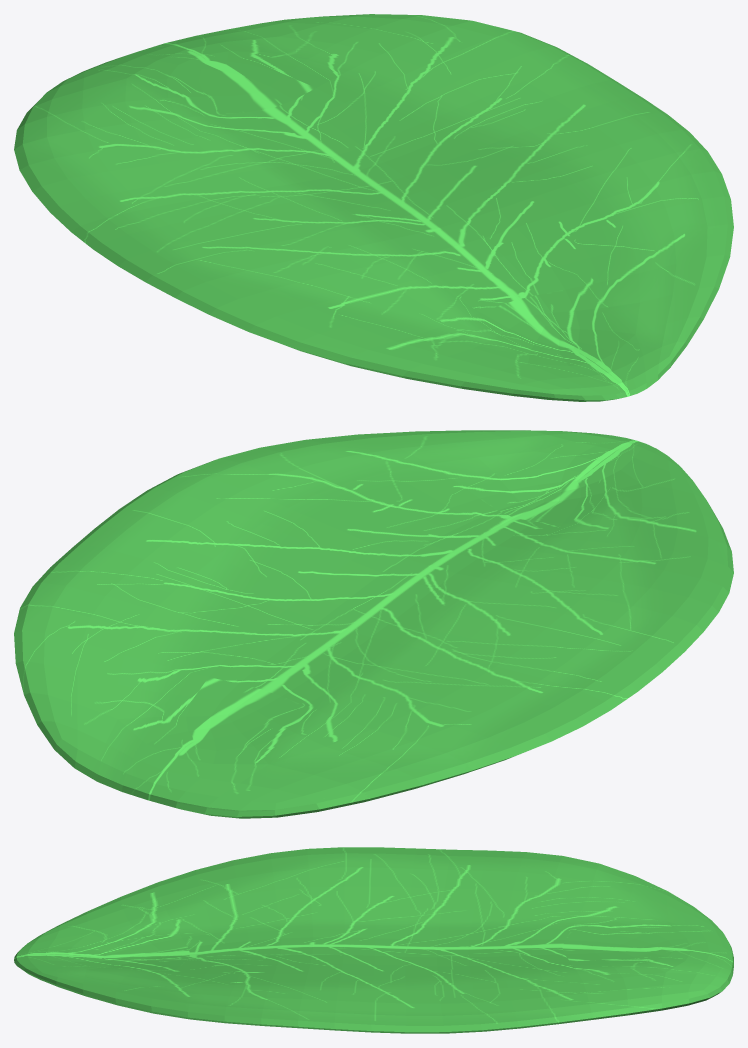
Rendered from malunggayleaves.fbx.
3 renders of one model, top to bottom at view 1: azimuth 30°, elevation 25°; view 2: azimuth 150°, elevation 25°; view 3: azimuth 270°, elevation 25°, orthographic. The views are drawn at different scales.
Visible parts, largest first — view 1: Plane; view 2: Plane; view 3: Plane.
Part boxes in pixels (x1=…): Plane: x1=14, y1=14, x2=733, y2=401; Plane: x1=14, y1=430, x2=733, y2=818; Plane: x1=14, y1=847, x2=733, y2=1033.
Size of the model in its own units: 86.87 by 9.13 by 132.
